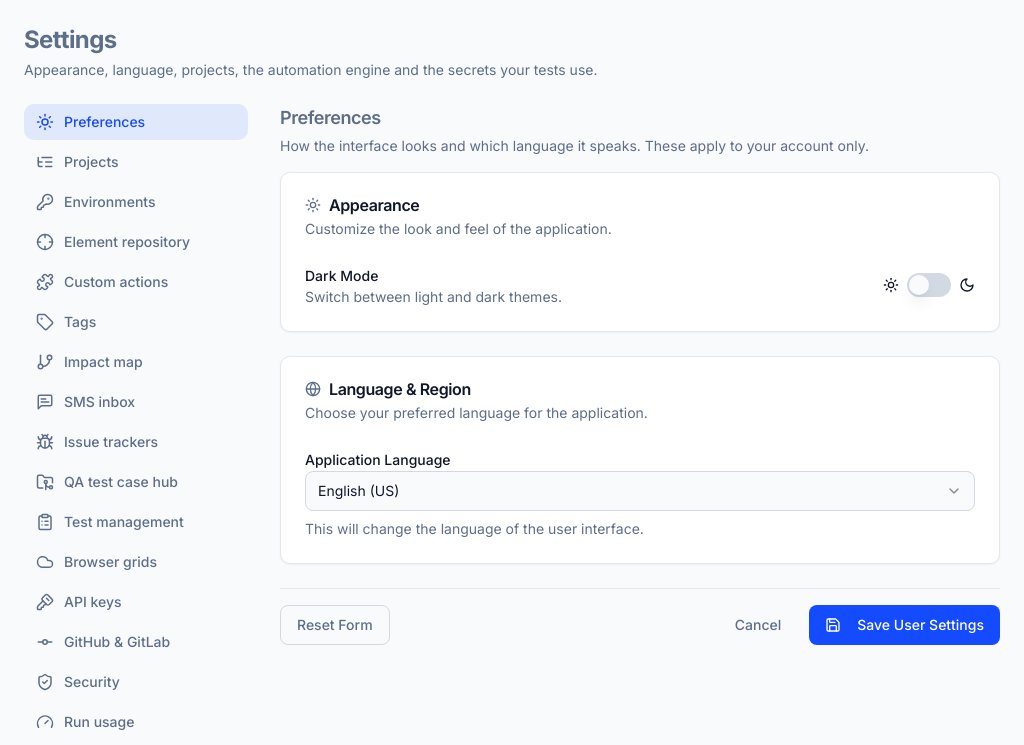
Scenario: SettingsPage - Project Deletion › closes the dialog without deleting when Cancel is clicked
The width and height of the screenshot is (1024, 745).
Step 1. Click the button "Projects" → (136, 162), box [24, 144, 248, 180]
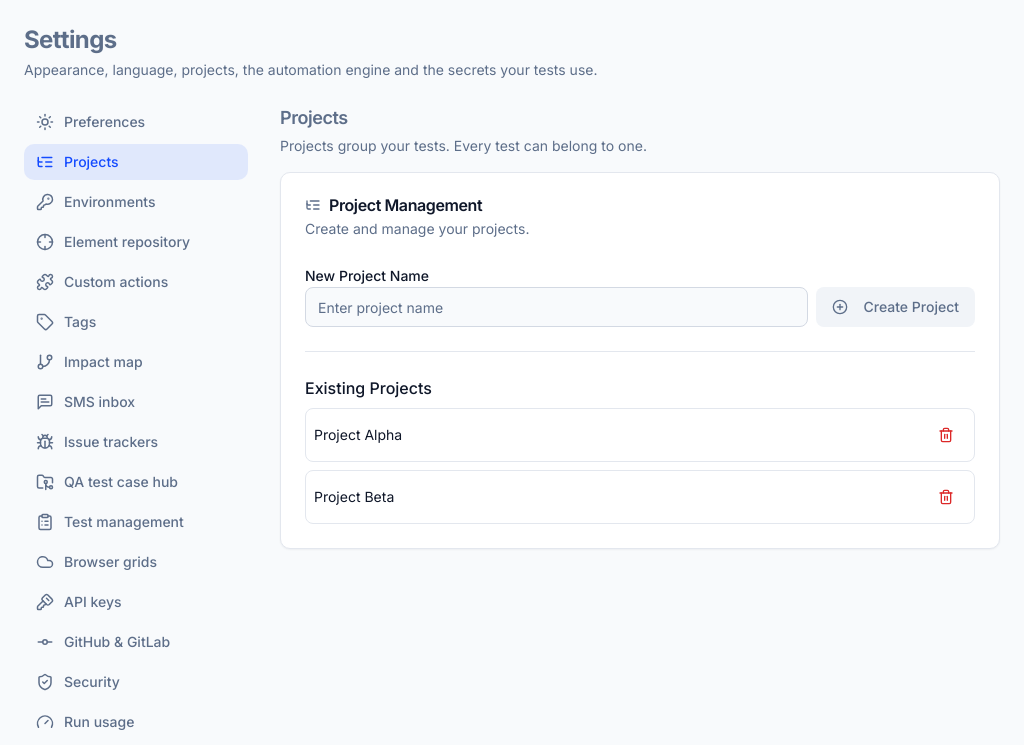
Step 2. Click the button named "Delete project Project Alpha" → (946, 435), box [926, 417, 966, 453]
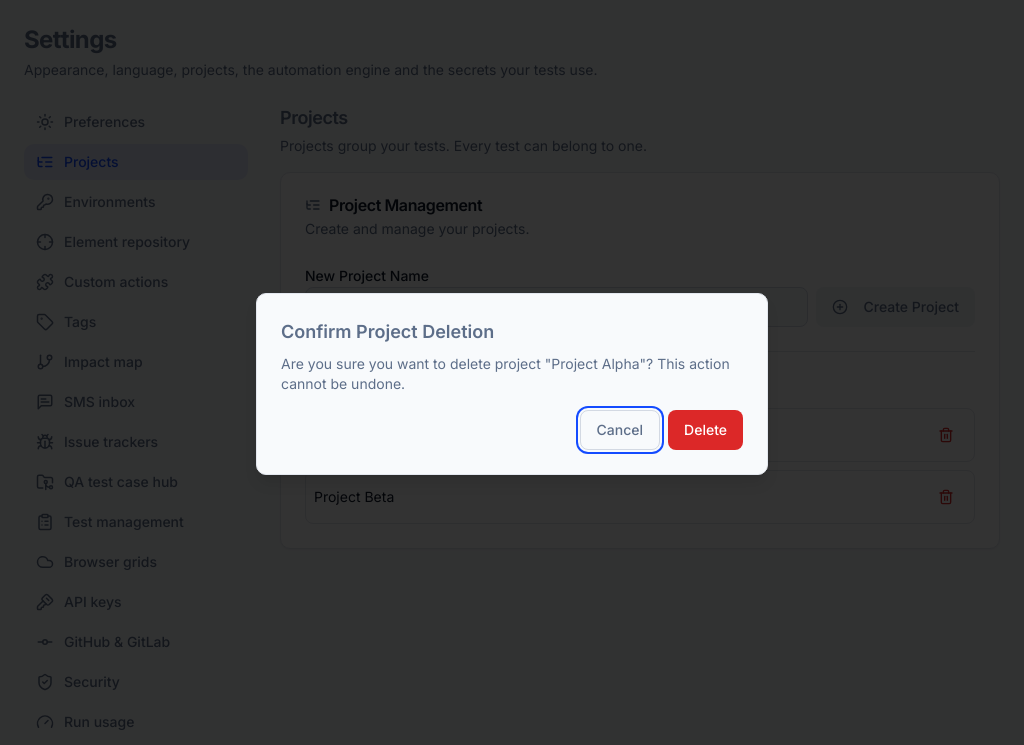
Step 3. Click the button "Cancel" → (620, 430), box [580, 410, 660, 450]
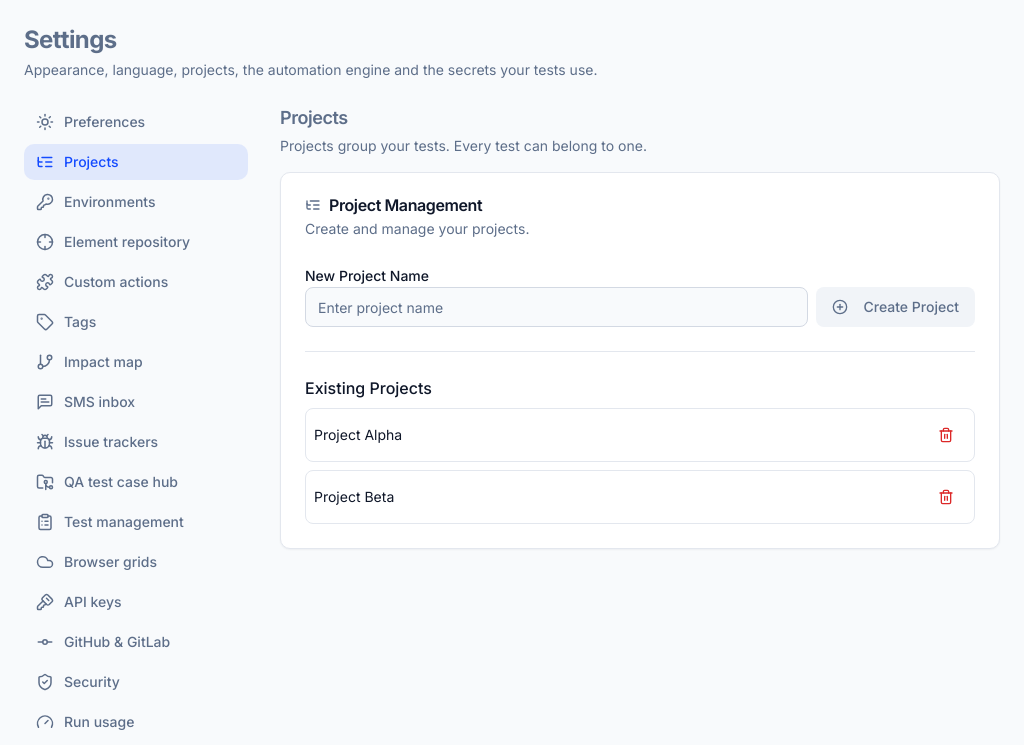
Now the dialog is gone
